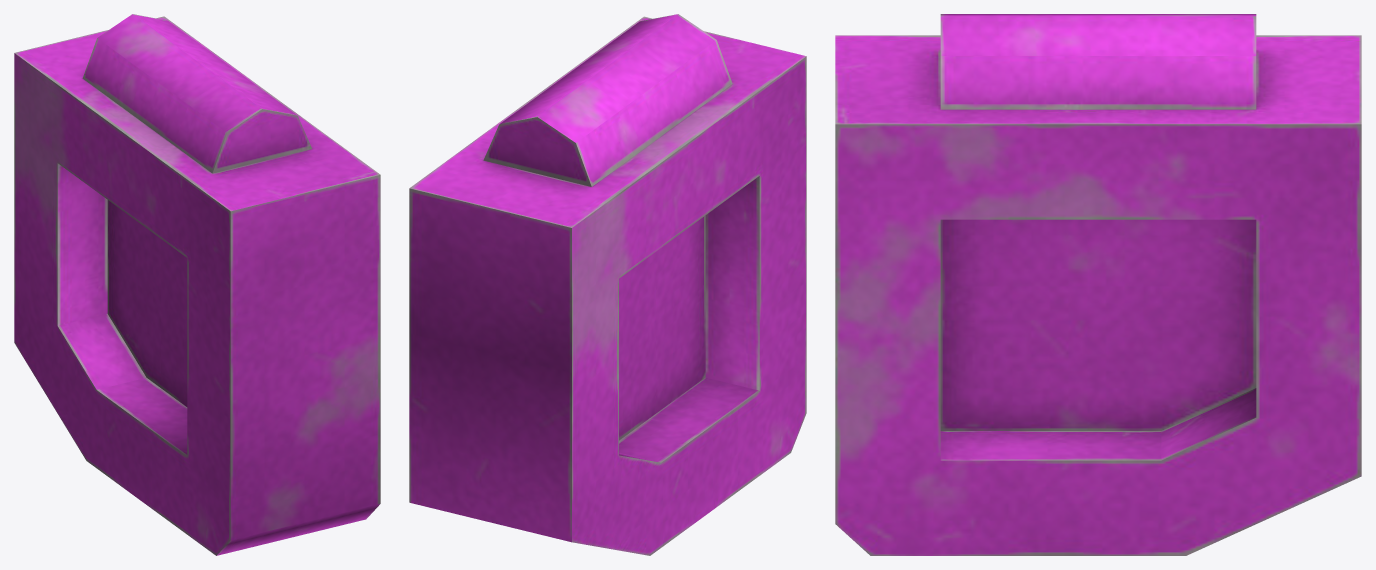
Rendered from clip-small.glb.
The picture shows the model from 3 angles, left to right: view 1: azimuth 30°, elevation 25°; view 2: azimuth 150°, elevation 25°; view 3: azimuth 270°, elevation 25°; orthographic projection. The views are drawn at different scales.
Visible parts, largest first — view 1: clip-small; view 2: clip-small; view 3: clip-small.
Part boxes in pixels (bbox=[...]): clip-small: bbox=[14, 14, 380, 555]; clip-small: bbox=[409, 14, 806, 555]; clip-small: bbox=[835, 14, 1361, 555].
Bounding box in the file's own units: 0.06 × 0.1558 × 0.15.
Materials: 1 (1 with a texture image).
